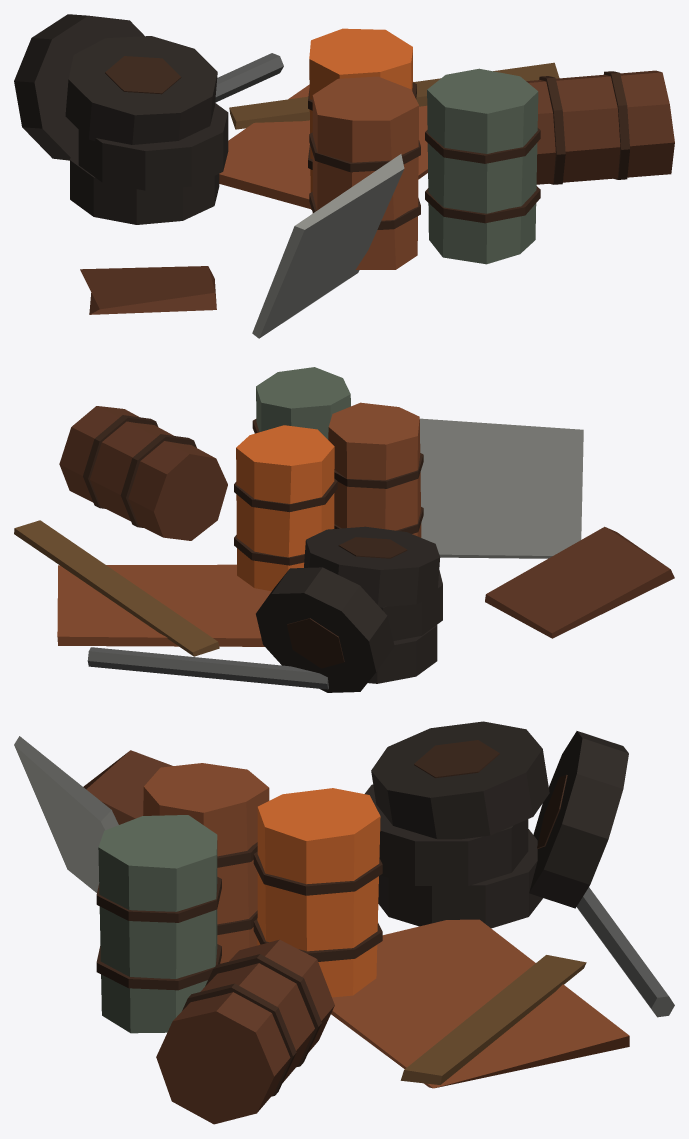
The model's file is junk.glb.
3 renders of one model, top to bottom at view 1: azimuth 30°, elevation 25°; view 2: azimuth 150°, elevation 25°; view 3: azimuth 270°, elevation 25°, orthographic. The views are drawn at different scales.
Parts seen in each view (by area): view 1: junk; view 2: junk; view 3: junk.
Part boxes in pixels (left/top/right/bottom): junk: left=14, top=14, right=674, bottom=338; junk: left=14, top=367, right=674, bottom=692; junk: left=14, top=721, right=674, bottom=1124.
Bounding box in the file's own units: 3.96 × 0.9532 × 3.2.
